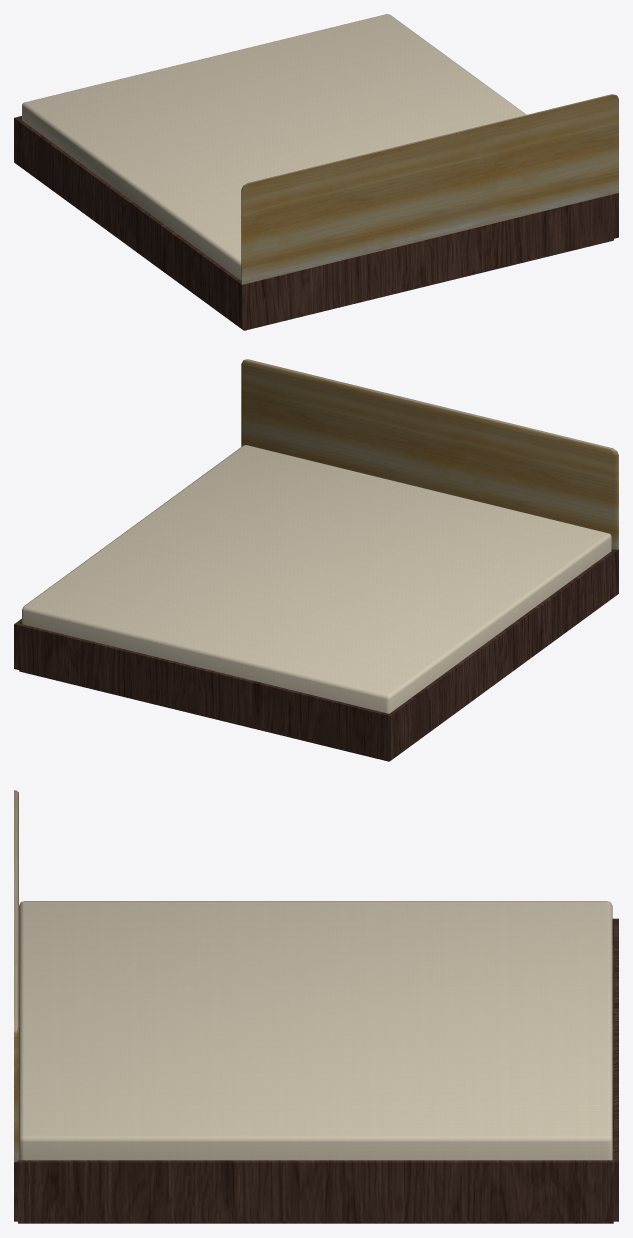
File: Bed.fbx
3 views of the same model, one above another, from view 1: azimuth 30°, elevation 25°; view 2: azimuth 150°, elevation 25°; view 3: azimuth 270°, elevation 25° (orthographic). The views are drawn at different scales.
Parts seen in each view (by area): view 1: Bed; view 2: Bed; view 3: Bed.
Part boxes in pixels (x1,y1,x2,y2): Bed: (14,14,618,330); Bed: (14,359,618,761); Bed: (14,790,618,1223).
Bounding box in the file's own units: 1.93 × 0.7228 × 2.03.
1 material, 1 textured.
